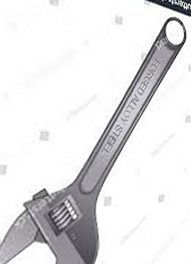Wrench: (6, 18, 191, 264)
